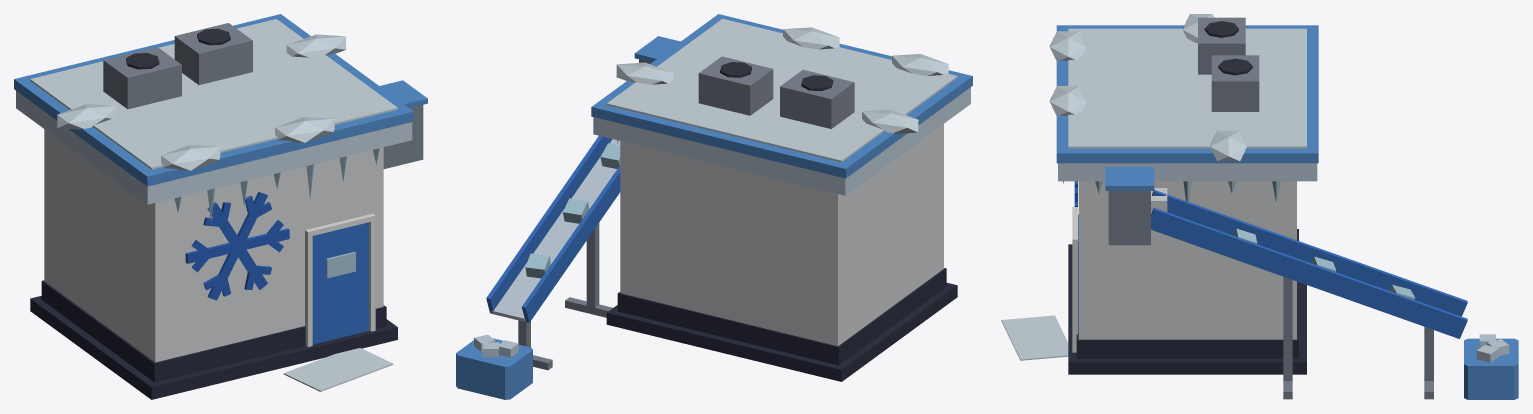
File: ice_plant.glb
The picture shows the model from 3 angles, left to right: view 1: azimuth 30°, elevation 25°; view 2: azimuth 150°, elevation 25°; view 3: azimuth 270°, elevation 25°; orthographic projection. The views are drawn at different scales.
Parts seen in each view (by area): view 1: ice_plant; view 2: ice_plant; view 3: ice_plant.
Part boxes in pixels (x1,y1,x2,y2): ice_plant: [14, 14, 427, 399]; ice_plant: [456, 14, 972, 399]; ice_plant: [1001, 14, 1518, 399].
Size of the model in its own units: 5.42 by 4.23 by 7.58.
